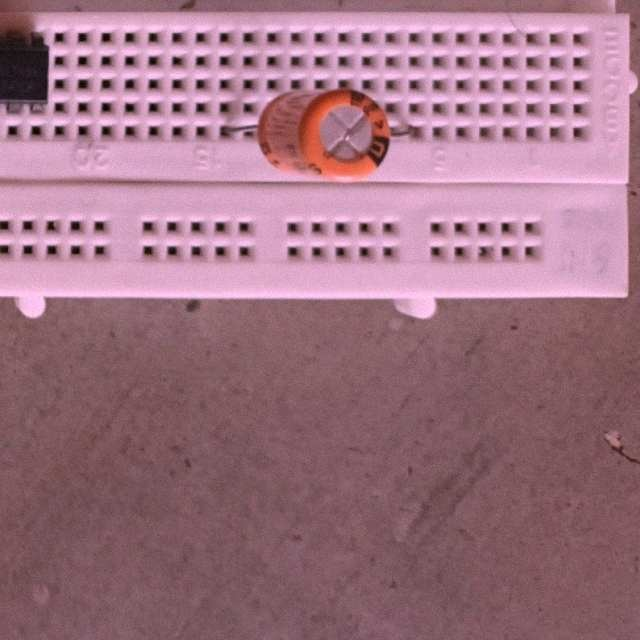capacitor: (254, 87, 392, 182)
